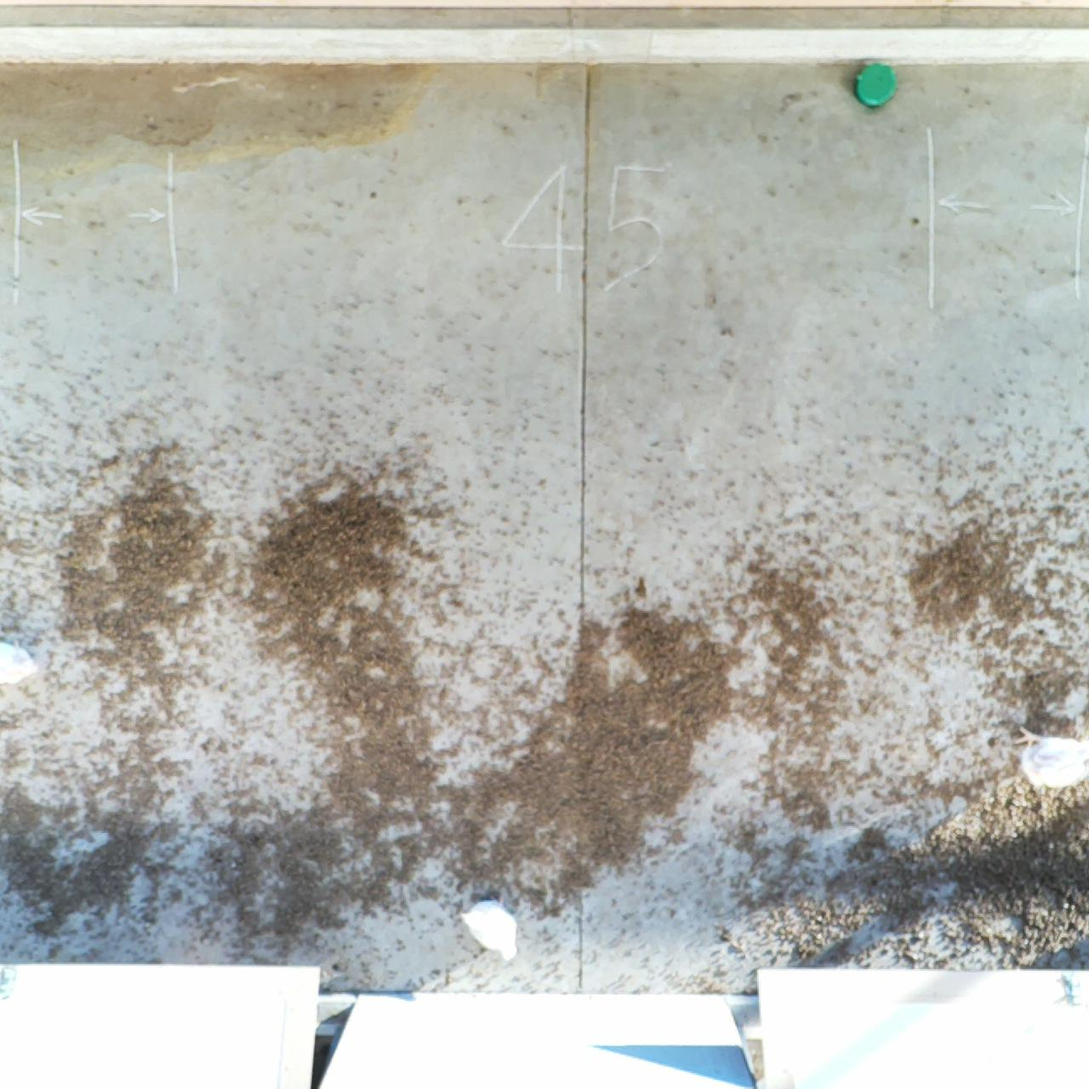chicken: (1007, 723, 1089, 793), (456, 891, 526, 966)
